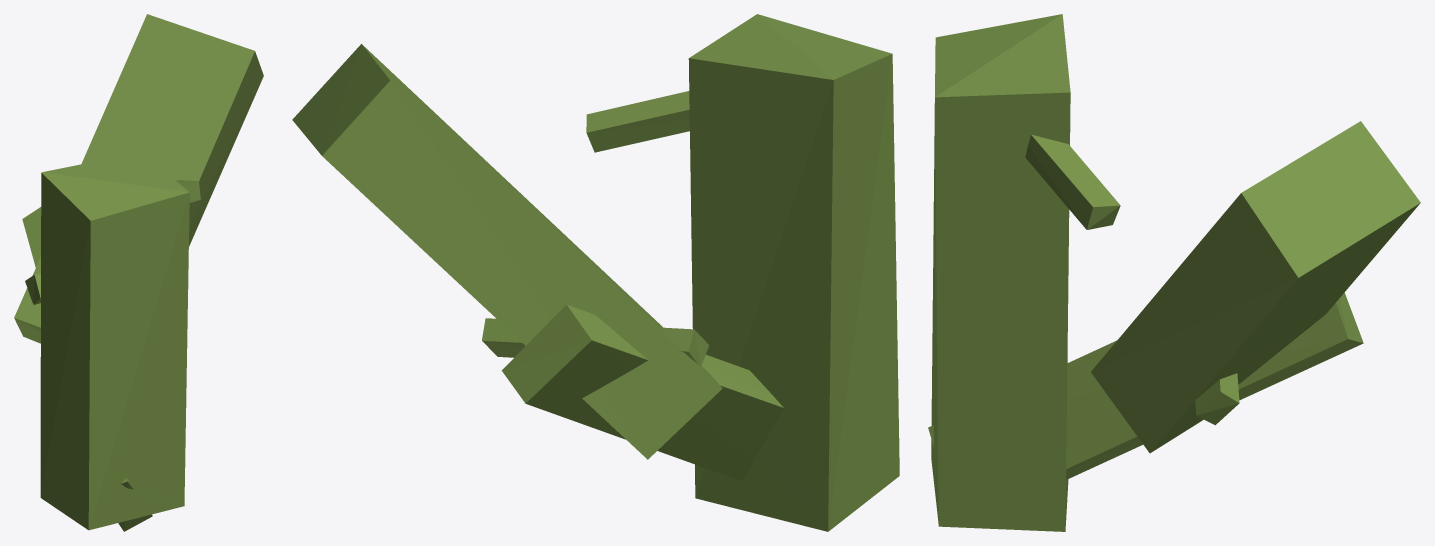
The picture shows the model from 3 angles, left to right: view 1: azimuth 30°, elevation 25°; view 2: azimuth 150°, elevation 25°; view 3: azimuth 270°, elevation 25°; orthographic projection. The views are drawn at different scales.
Visible parts, largest first — view 1: 304_Cube.1243; view 2: 304_Cube.1243; view 3: 304_Cube.1243.
Boxes of the visible parts, x1,y1,x2,y2 form: 304_Cube.1243: (14, 14, 263, 531); 304_Cube.1243: (292, 14, 899, 531); 304_Cube.1243: (928, 14, 1420, 531).
Bounding box in the file's own units: 12.51 × 14.47 × 12.57.
